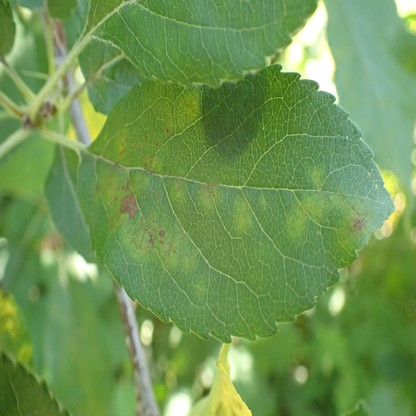scab: (95, 169, 196, 270), (331, 194, 373, 246), (285, 196, 320, 238), (233, 196, 253, 234), (179, 93, 199, 126), (201, 182, 222, 206), (171, 176, 187, 204), (116, 129, 128, 163), (192, 277, 208, 301), (143, 155, 162, 175), (308, 166, 324, 188), (258, 193, 268, 211)
